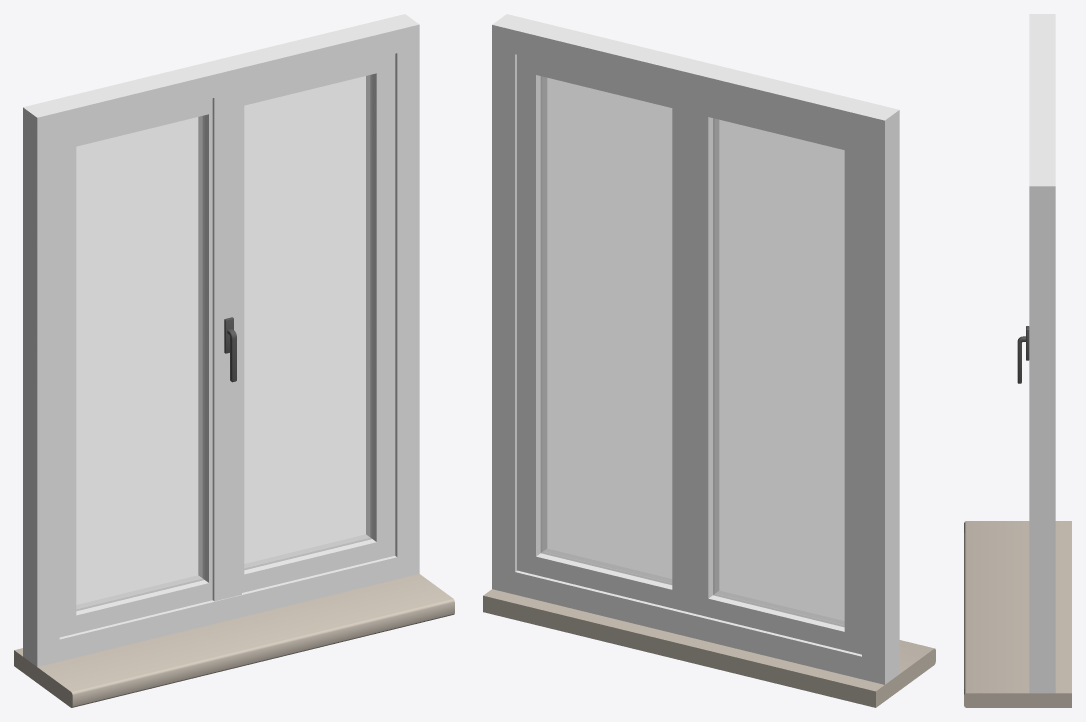
The model's file is window.obj.
3 renders of one model, left to right at view 1: azimuth 30°, elevation 25°; view 2: azimuth 150°, elevation 25°; view 3: azimuth 270°, elevation 25°, orthographic. The views are drawn at different scales.
Visible parts, largest first — view 1: glass, window, sash_2, sash_1, sill, glass_border; view 2: glass, window, sash_2, sash_1, sill, glass_border; view 3: window, sill, handle.
Boxes of the visible parts, bbox=[...] form: glass: bbox=[76, 74, 372, 610]; window: bbox=[23, 14, 419, 666]; sash_2: bbox=[212, 54, 395, 601]; sash_1: bbox=[59, 98, 212, 637]; sill: bbox=[14, 574, 454, 707]; glass_border: bbox=[76, 74, 372, 611]; glass: bbox=[540, 76, 844, 626]; window: bbox=[492, 14, 899, 684]; sash_2: bbox=[517, 55, 690, 612]; sash_1: bbox=[690, 97, 861, 654]; sill: bbox=[483, 589, 935, 707]; glass_border: bbox=[540, 76, 844, 627]; window: bbox=[1029, 14, 1055, 693]; sill: bbox=[964, 521, 1071, 707]; handle: bbox=[1017, 326, 1029, 383].
Size of the model in its own units: 9.97 by 14.08 by 2.64.
